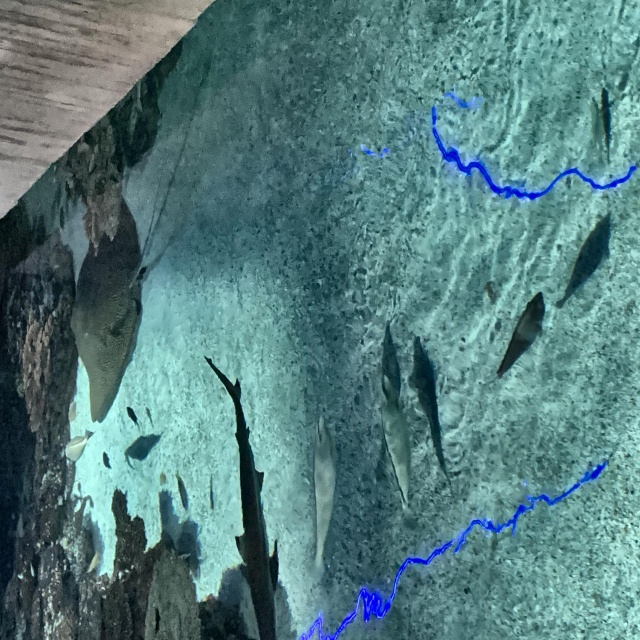fish: (405, 334, 457, 491), (368, 379, 418, 513), (555, 210, 617, 311), (306, 408, 342, 581), (491, 292, 550, 383), (373, 317, 408, 465), (598, 86, 616, 158), (63, 428, 94, 465), (174, 471, 189, 513), (66, 397, 79, 427), (125, 403, 138, 429), (209, 475, 217, 512), (101, 450, 111, 472), (144, 405, 153, 426)
shark: (229, 377, 279, 639)
stingray: (70, 196, 143, 422)
